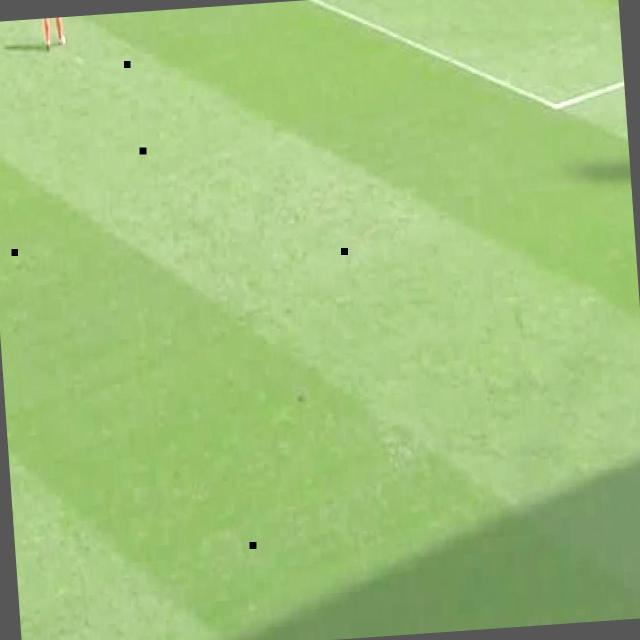player-white: (39, 17, 71, 50)
